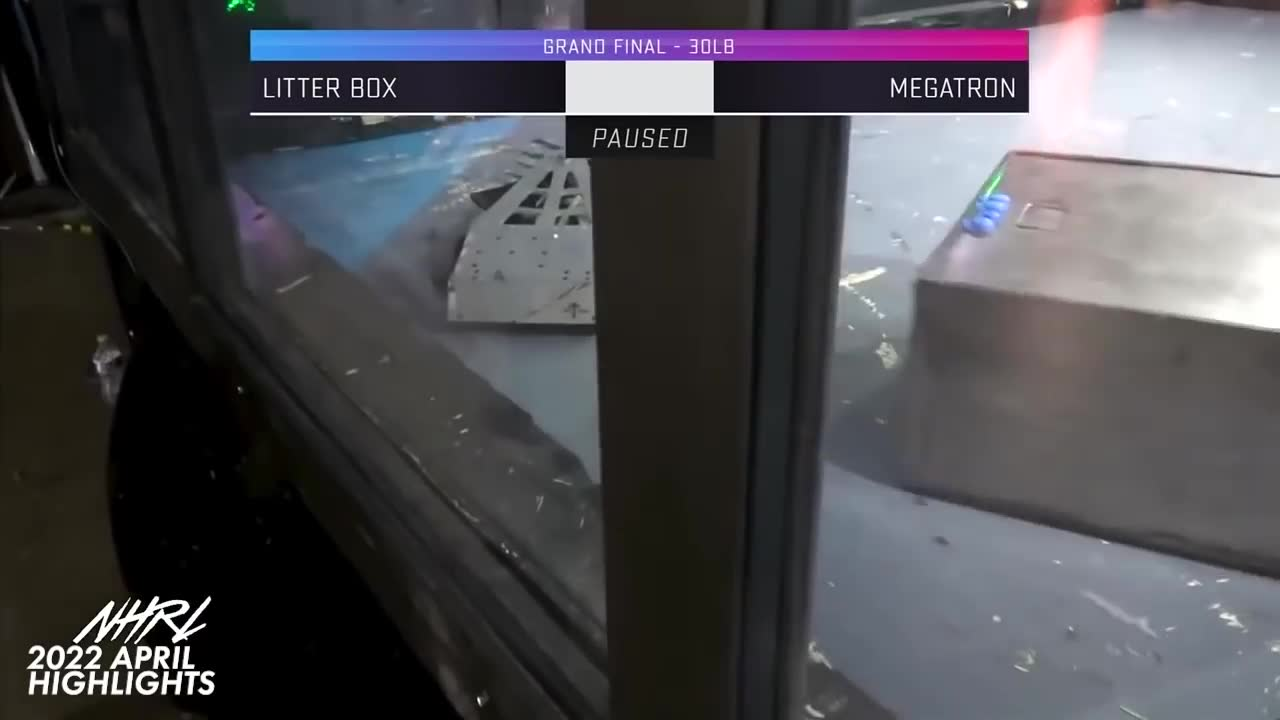combatbot: (444, 144, 596, 334)
housebot: (906, 150, 1280, 578)
